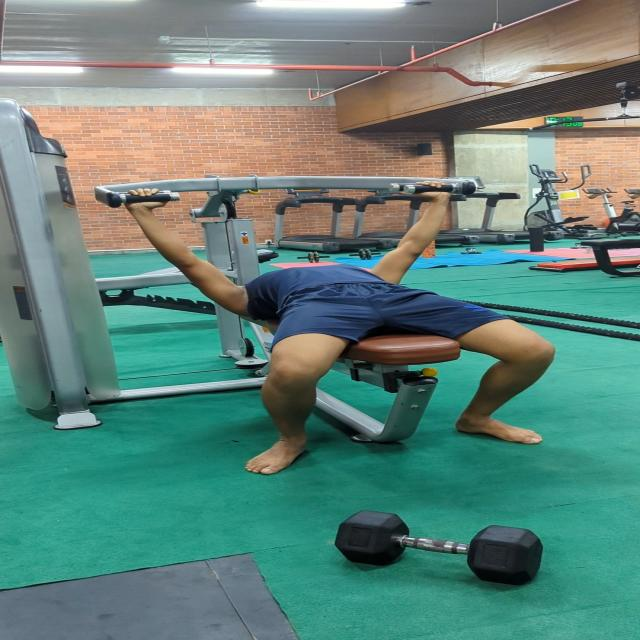Normal_BrenchPress: (120, 182, 569, 474)
